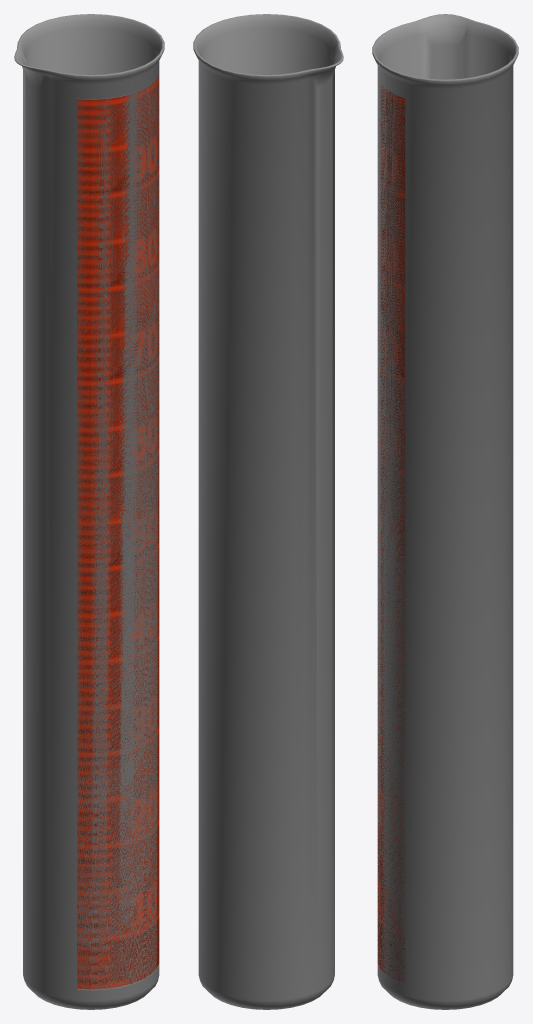
3 views of the same model, side by side, from view 1: azimuth 30°, elevation 25°; view 2: azimuth 150°, elevation 25°; view 3: azimuth 270°, elevation 25° (orthographic).
Parts seen in each view (by area): view 1: SM_量筒_1; view 2: SM_量筒_1; view 3: SM_量筒_1.
Part boxes in pixels (box(x1,y1,x2,y2)): SM_量筒_1: box(14, 14, 164, 1009); SM_量筒_1: box(193, 14, 343, 1009); SM_量筒_1: box(372, 14, 518, 1009).
Size of the model in its own units: 0.0205 by 0.1342 by 0.019.
